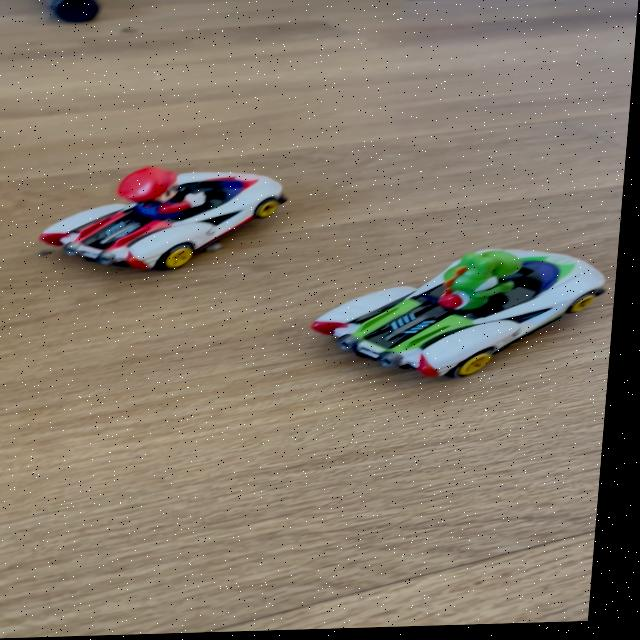mario: (21, 150, 305, 279)
yoshi: (295, 240, 617, 398)
